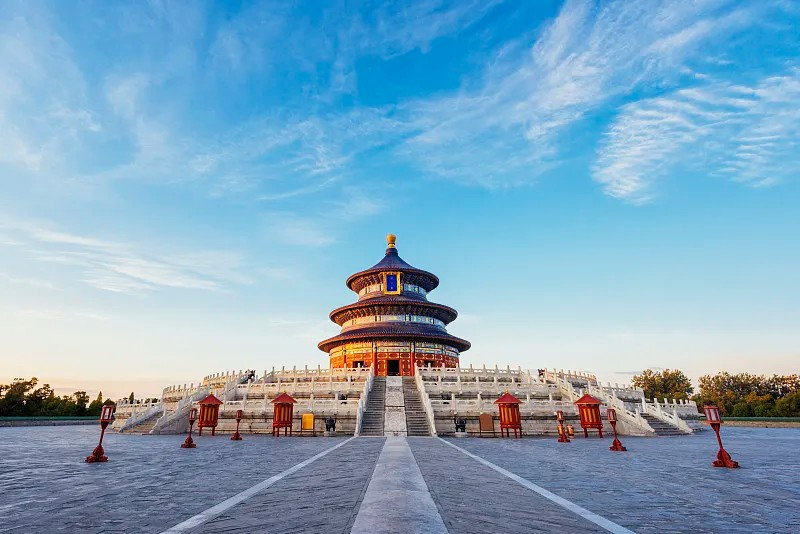Heaven: (316, 233, 471, 377)
